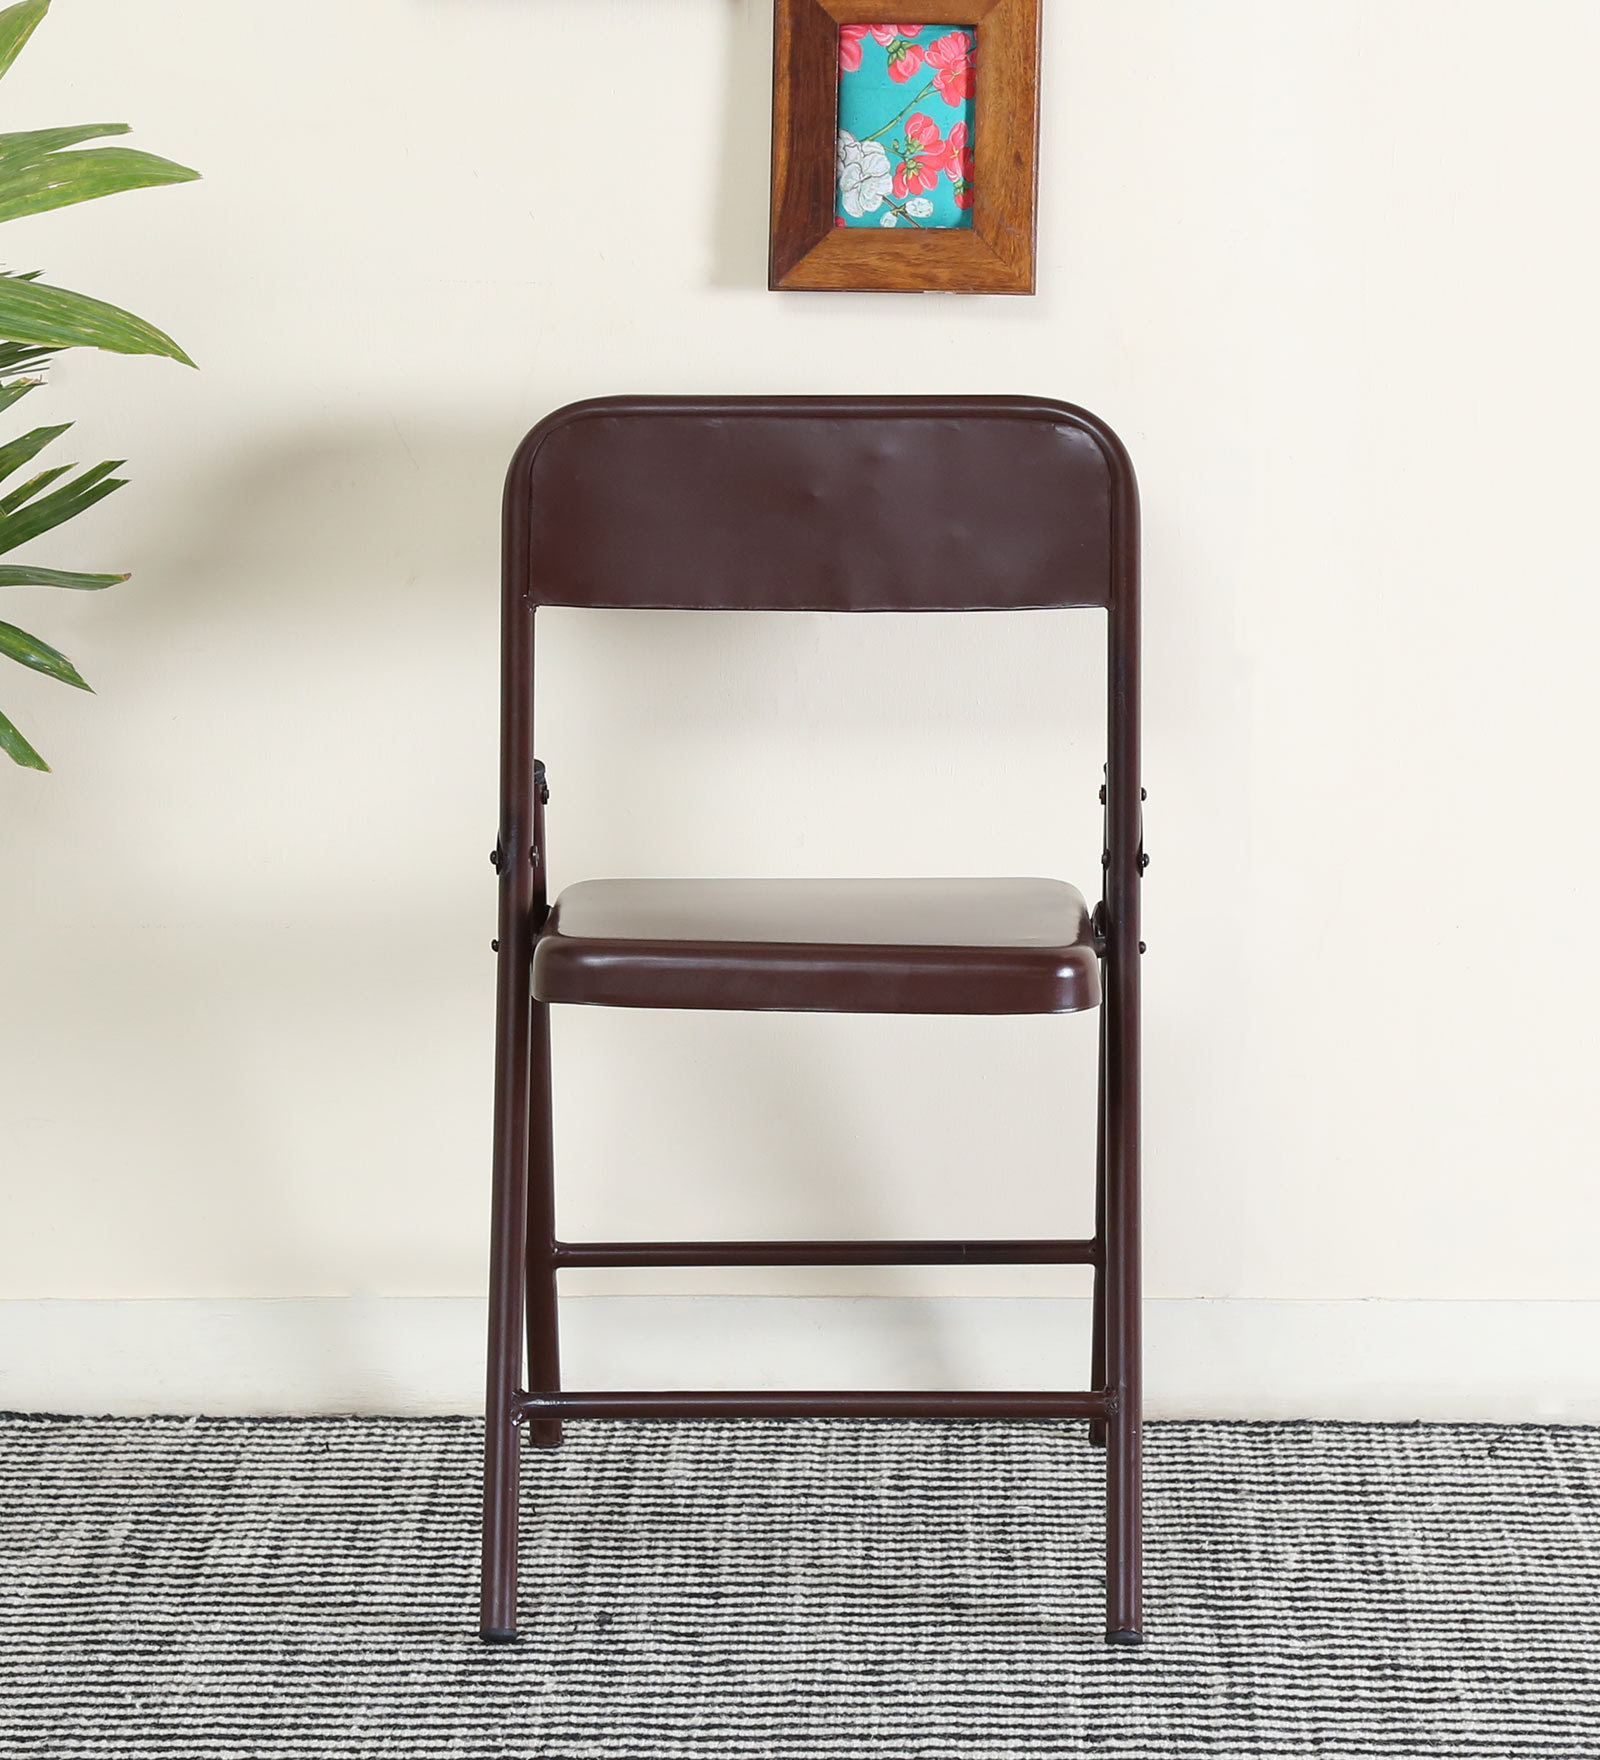Kell Folding Chair in Brown Color by Bohemiana: (451, 360, 1179, 1680)
